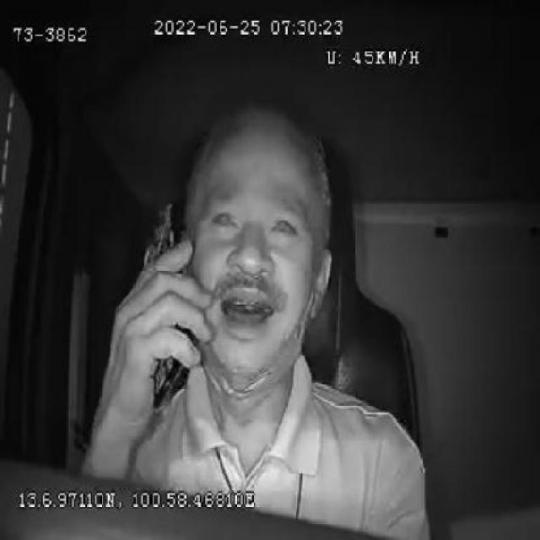phone: (140, 197, 198, 403)
